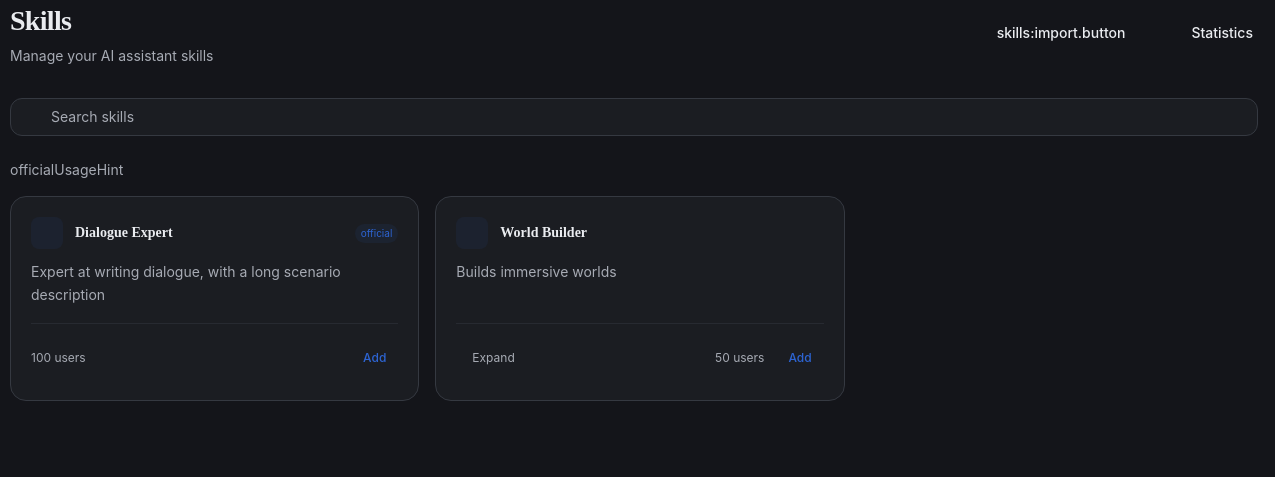
Test: SkillsPage › Official skill instructions are hidden › shows the official description without an empty disclosure while community instructions stay readable
The image size is (1275, 477).
Expected: the heading "Dialogue Expert" is shown, [75,225,173,240]
Expected: the text "Expert at writing dialogue, with a long scenario description" is shown, [31,263,341,303]
社区技能照常展开正文
Click the button "Expand".
click(486, 358)  # box [456,336,515,380]
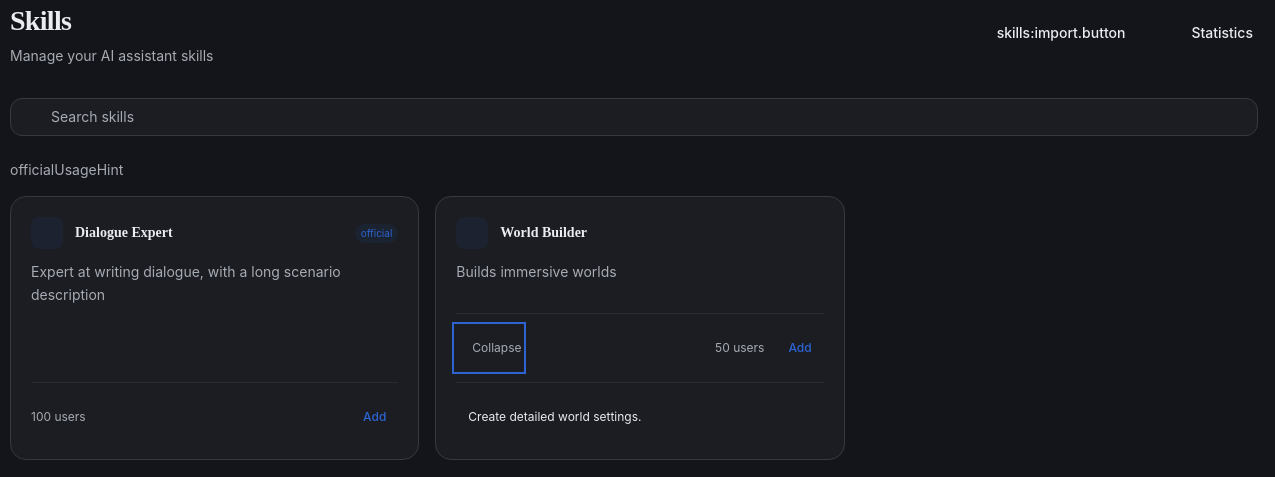
Result: the text "Create detailed world settings." is shown at [468,409,642,424]
